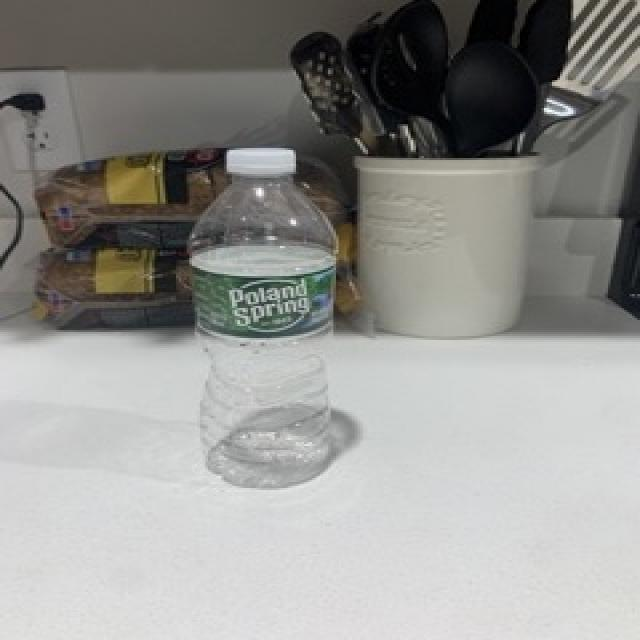water_bottle: (185, 145, 345, 491)
